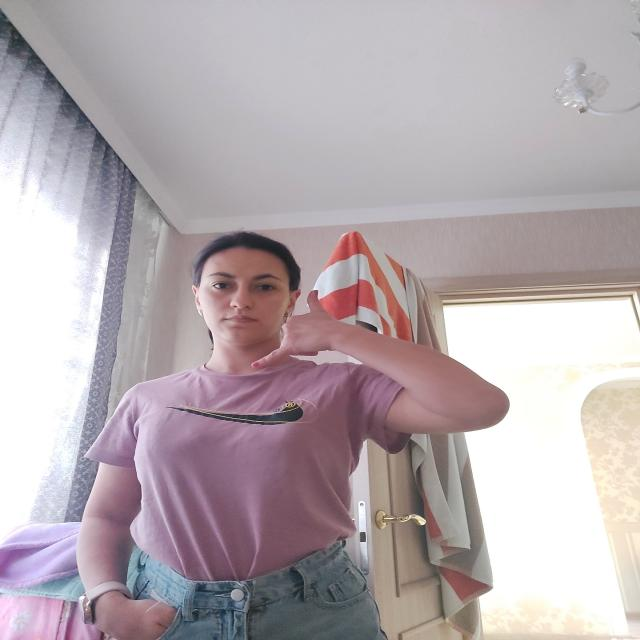call: (249, 288, 340, 369)
